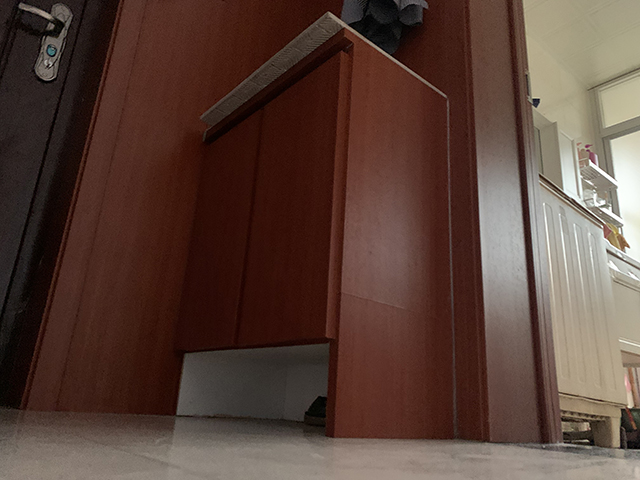cabinet: (171, 10, 456, 442), (537, 176, 640, 451)
